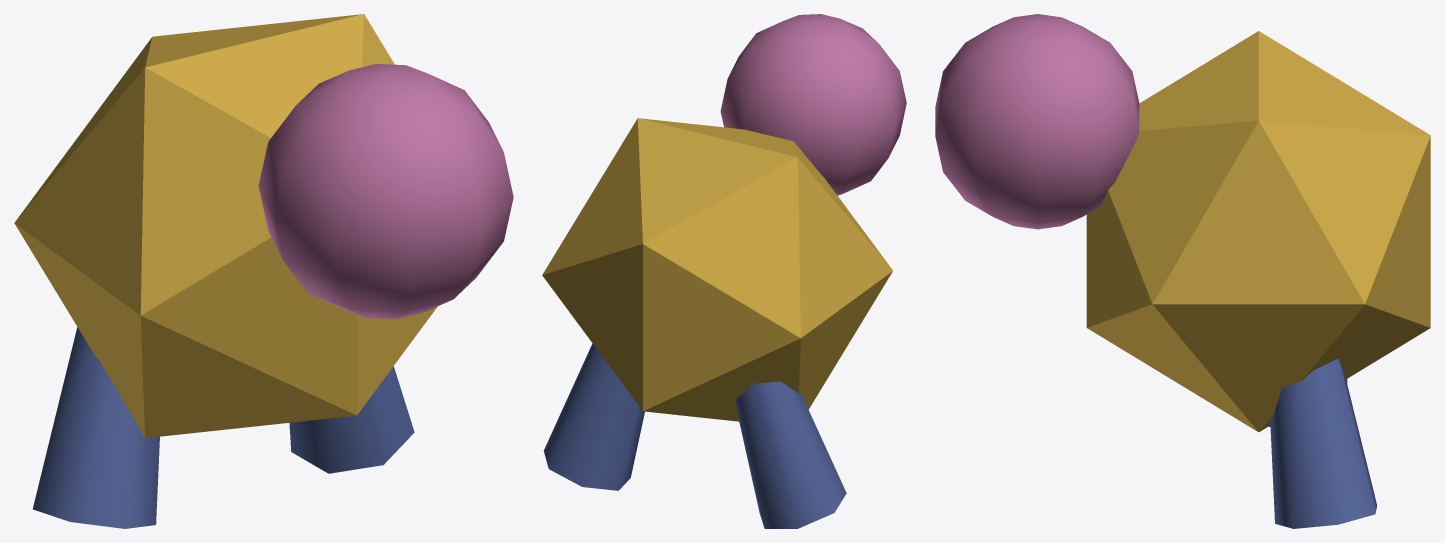
Rendered from meadow_sprout.glb.
3 views of the same model, side by side, from view 1: azimuth 30°, elevation 25°; view 2: azimuth 150°, elevation 25°; view 3: azimuth 270°, elevation 25° (orthographic). The views are drawn at different scales.
Parts seen in each view (by area): view 1: body_core, head_core, spring_-1, spring_1; view 2: body_core, head_core, spring_-1, spring_1; view 3: body_core, head_core, spring_1.
Part boxes in pixels (x1=…): body_core: x1=14, y1=14, x2=437, y2=438; head_core: x1=258, y1=64, x2=513, y2=319; spring_-1: x1=33, y1=327, x2=159, y2=528; spring_1: x1=289, y1=366, x2=414, y2=473; body_core: x1=542, y1=118, x2=892, y2=421; head_core: x1=720, y1=14, x2=906, y2=195; spring_-1: x1=735, y1=381, x2=846, y2=528; spring_1: x1=543, y1=343, x2=644, y2=490; body_core: x1=1086, y1=31, x2=1430, y2=432; head_core: x1=935, y1=14, x2=1139, y2=229; spring_1: x1=1270, y1=358, x2=1377, y2=528.
Size of what is drawn, in the model's own units: 1.38 by 1.84 by 1.84.
